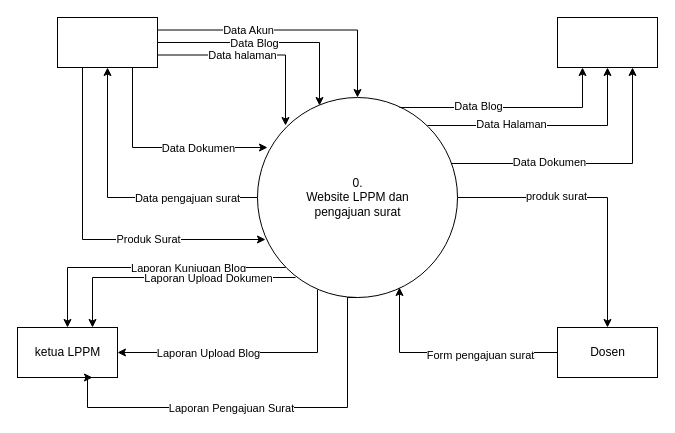
Some shapes in this 675 by 433 pixel diagram are drawn without their labels. The centre of each missing label's shape, as x and y in pixels:
Admin: point (107, 42)
Pengunjung: point (607, 42)
